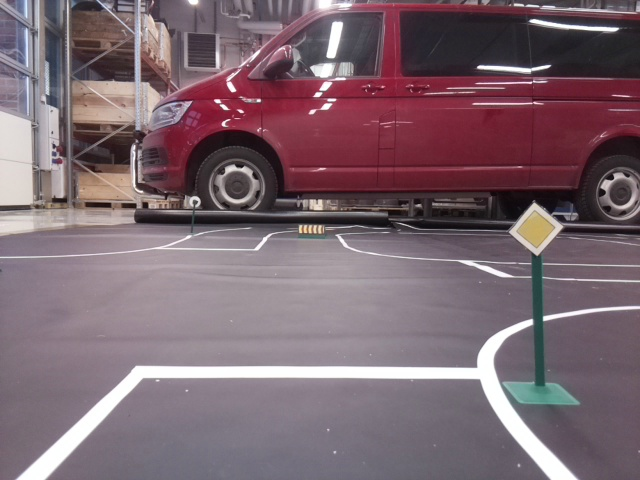Priority: (509, 202, 559, 250)
